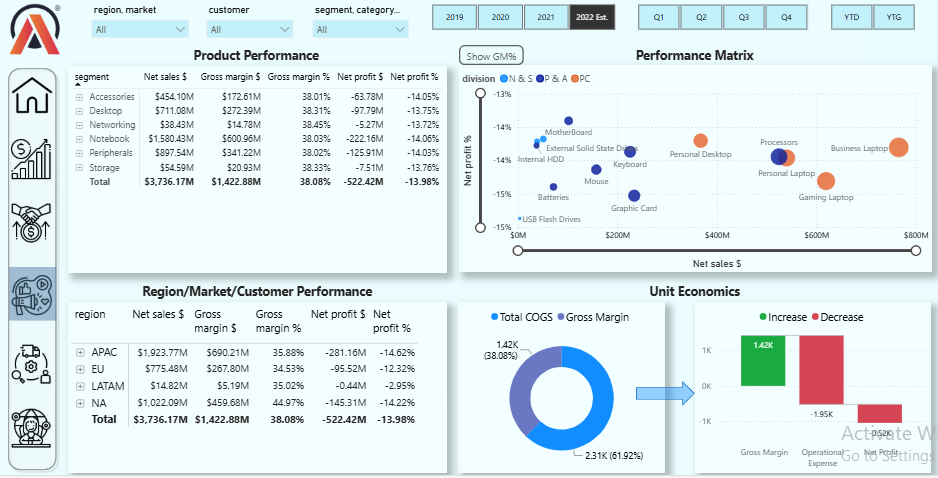

The page's visual inventory and layout, read from the dashboard file:
{"tool":"powerbi","page":{"name":"Marketing View","canvas":[1400,720],"ordinal":3},"visuals":[{"type":"slicer","fields":{"Values":["Fiscal Year.FY_desc"]},"box":[620,0,321.5,50.8],"z":0},{"type":"scatterChart","title":"NP% visual","fields":{"Category":["dim_product.segment","dim_product.category","dim_product.product"],"Series":["dim_product.division"],"Size":["Key Measures.Net sales $"],"X":["Key Measures.Net sales $"],"Y":["Key Measures.Net profit %"]},"box":[684.6,97.7,706.2,309.2],"z":0,"group":"g1"},{"type":"slicer","fields":{"Values":["dim_date.Quarter"]},"box":[926.2,0,301.5,50.8],"z":1000},{"type":"actionButton","title":"GM% button","box":[684.6,67.7,96.7,30],"z":1000,"group":"g1"},{"type":"slicer","fields":{"Values":["dim_date.YTD_YTG"]},"box":[1215.4,0,173.8,50.8],"z":2000},{"type":"textbox","box":[98.5,64.6,567.7,40],"z":3000},{"type":"slicer","fields":{"Values":["dim_market.region","dim_market.market"]},"box":[126.2,1.9,164.6,63.1],"z":4000},{"type":"slicer","fields":{"Values":["dim_customer.customer"]},"box":[299.2,1.9,149.2,63.1],"z":5000},{"type":"slicer","fields":{"Values":["dim_product.segment","dim_product.category","dim_product.product"]},"box":[456.9,1.9,163.1,63.1],"z":6000},{"type":"image","box":[4.6,4.6,96.9,76.9],"z":7000},{"type":"shape","box":[6.2,95.4,84.6,612.3],"z":8000},{"type":"image","box":[16.9,303.1,60,60],"z":9000},{"type":"image","box":[16.9,410.5,61.5,60],"z":10000},{"type":"image","box":[16.9,207.7,60,60],"z":11000},{"type":"image","box":[16.9,609.2,60,60],"z":12000},{"type":"image","box":[16.9,513.8,60,60],"z":13000},{"type":"image","box":[18.5,112.3,60,60],"z":14000},{"type":"shape","box":[13.8,398.5,70.8,80],"z":15000},{"type":"textbox","box":[683.1,64.6,706.2,40],"z":16000},{"type":"textbox","box":[683.1,416.9,706.2,40],"z":17000},{"type":"pivotTable","fields":{"Rows":["dim_product.segment","dim_product.category","dim_product.product"],"Values":["Key Measures.Net sales $","Key Measures.Gross margin $","Key Measures.Gross margin %","Key Measures.Net profit $","Key Measures.Net profit %"]},"box":[101.5,98.5,564.6,309.2],"z":18000},{"type":"donutChart","fields":{"Series":["P & L Rows.Description"],"Y":["Key Measures.P & L Values"]},"box":[683.1,450.8,309.2,255.4],"z":19000},{"type":"shape","box":[949.2,569.2,87.7,36.9],"z":20000},{"type":"waterfallChart","fields":{"Category":["P & L Rows.Description"],"Y":["Key Measures.P & L Values"]},"box":[1036.9,450.8,352.3,255.4],"z":21000},{"type":"pivotTable","fields":{"Rows":["dim_market.region","dim_market.market"],"Values":["Key Measures.Net sales $","Key Measures.Gross margin $","Key Measures.Gross margin %","Key Measures.Net profit $","Key Measures.Net profit %"]},"box":[101.5,450.8,564.6,255.4],"z":22000},{"type":"textbox","box":[101.5,416.9,564.6,40],"z":23000},{"type":"group","id":"g1","title":"NP% group","box":[684.6,67.7,707.7,340],"z":25000}]}

Visuals, with their boxes in screenshot pixels (x1, y1, x2, y2), scaled from the page's 1400x720 canvas onto the 938x478 screenshot:
slicer - Fiscal Year.FY_desc: <box>415,0,631,34</box>
"NP% visual" scatterChart: <box>459,65,932,270</box>
slicer - dim_date.Quarter: <box>621,0,823,34</box>
"GM% button" actionButton: <box>459,45,523,65</box>
slicer - dim_date.YTD_YTG: <box>814,0,931,34</box>
textbox: <box>66,43,446,69</box>
slicer - dim_market.region x dim_market.market: <box>85,1,195,43</box>
slicer - dim_customer.customer: <box>200,1,300,43</box>
slicer - dim_product.segment x dim_product.category: <box>306,1,415,43</box>
image: <box>3,3,68,54</box>
shape: <box>4,63,61,470</box>
image: <box>11,201,52,241</box>
image: <box>11,273,53,312</box>
image: <box>11,138,52,178</box>
image: <box>11,404,52,444</box>
image: <box>11,341,52,381</box>
image: <box>12,75,53,114</box>
shape: <box>9,265,57,318</box>
textbox: <box>458,43,931,69</box>
textbox: <box>458,277,931,303</box>
pivotTable - dim_product.segment x dim_product.category: <box>68,65,446,271</box>
donutChart - P & L Rows.Description x Key Measures.P & L Values: <box>458,299,665,469</box>
shape: <box>636,378,695,402</box>
waterfallChart - P & L Rows.Description x Key Measures.P & L Values: <box>695,299,931,469</box>
pivotTable - dim_market.region x dim_market.market: <box>68,299,446,469</box>
textbox: <box>68,277,446,303</box>
"NP% group" group: <box>459,45,933,271</box>
